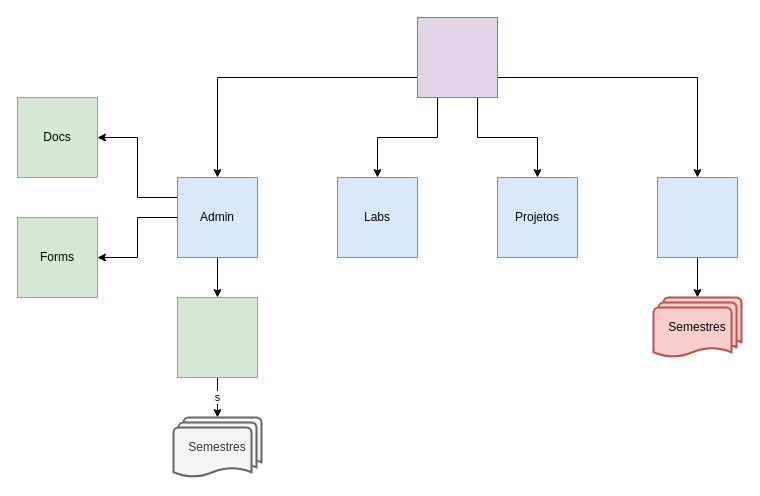
Some shapes in this 760 by 496 pixel diagram are drawn without their labels. Each missing label, with the box of its shape:
Atas: (176, 296, 258, 378)
DRIVE: (416, 16, 498, 98)
Eventos: (656, 176, 738, 258)
